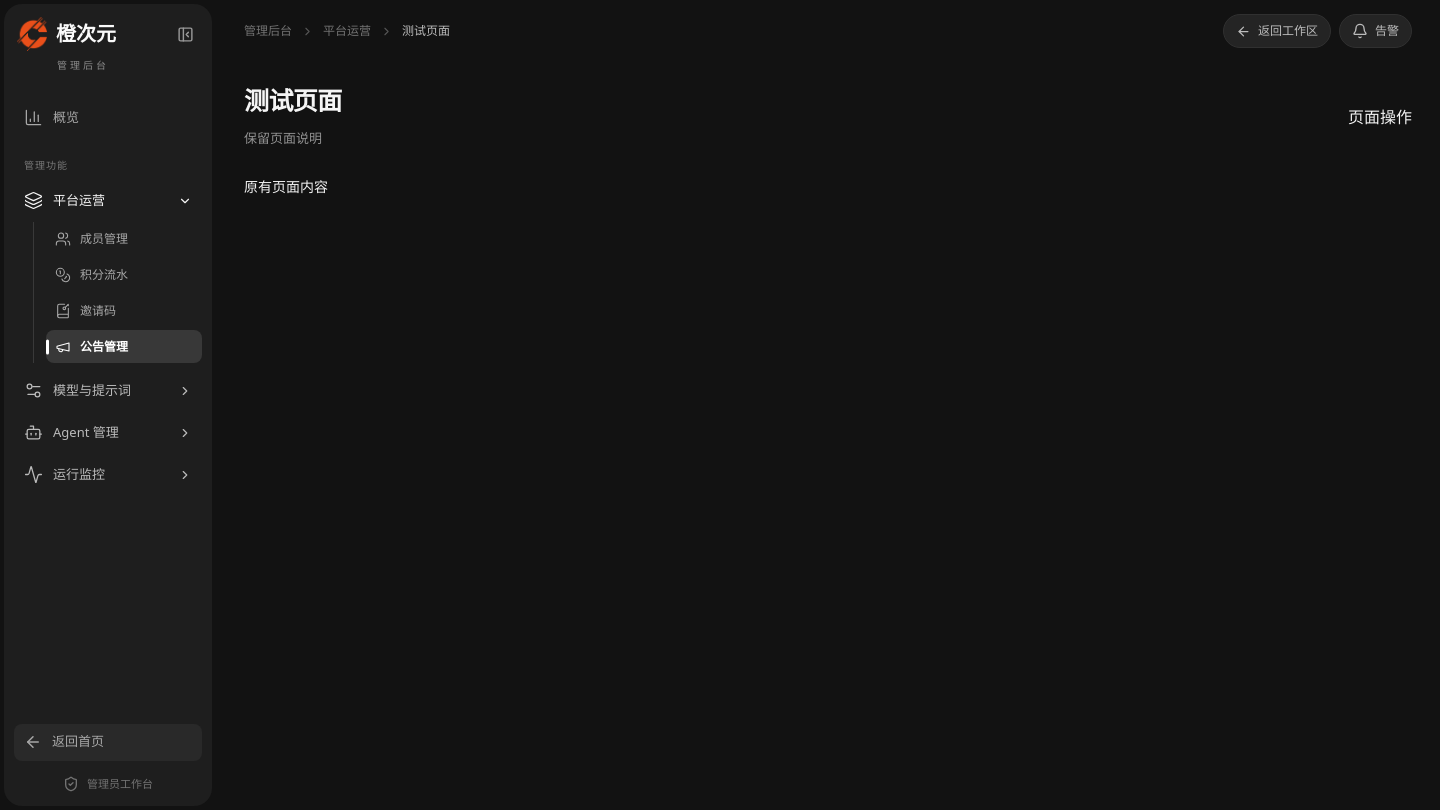
Scenario: 后台分级导航 › 分组可以独立收起和展开，并记住设置
This screenshot has width=1440, height=810.
Click the button "平台运营".
click(108, 200)  # box x1=14 y1=182 x2=202 y2=219
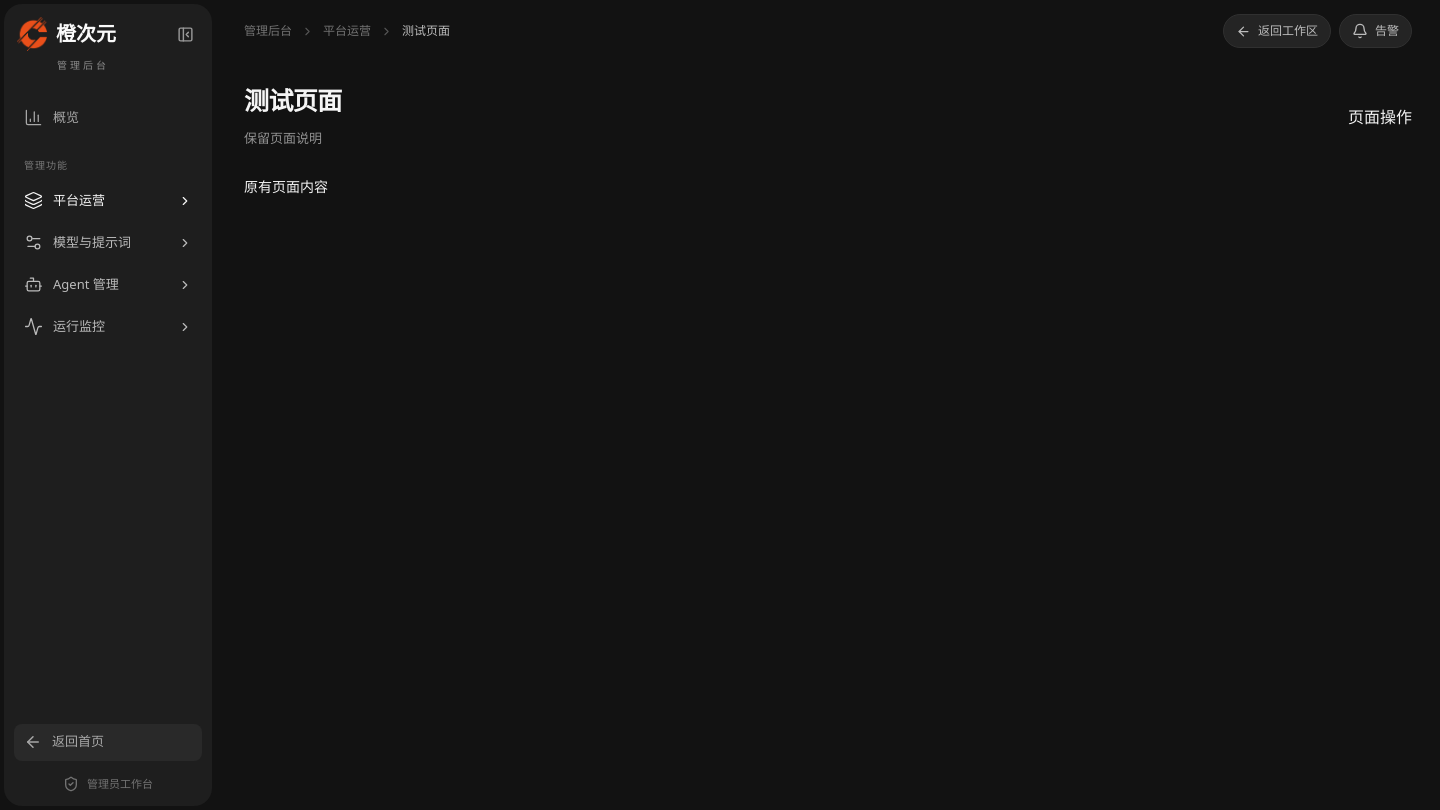
Click the button "Agent 管理".
click(108, 284)  # box x1=14 y1=266 x2=202 y2=303
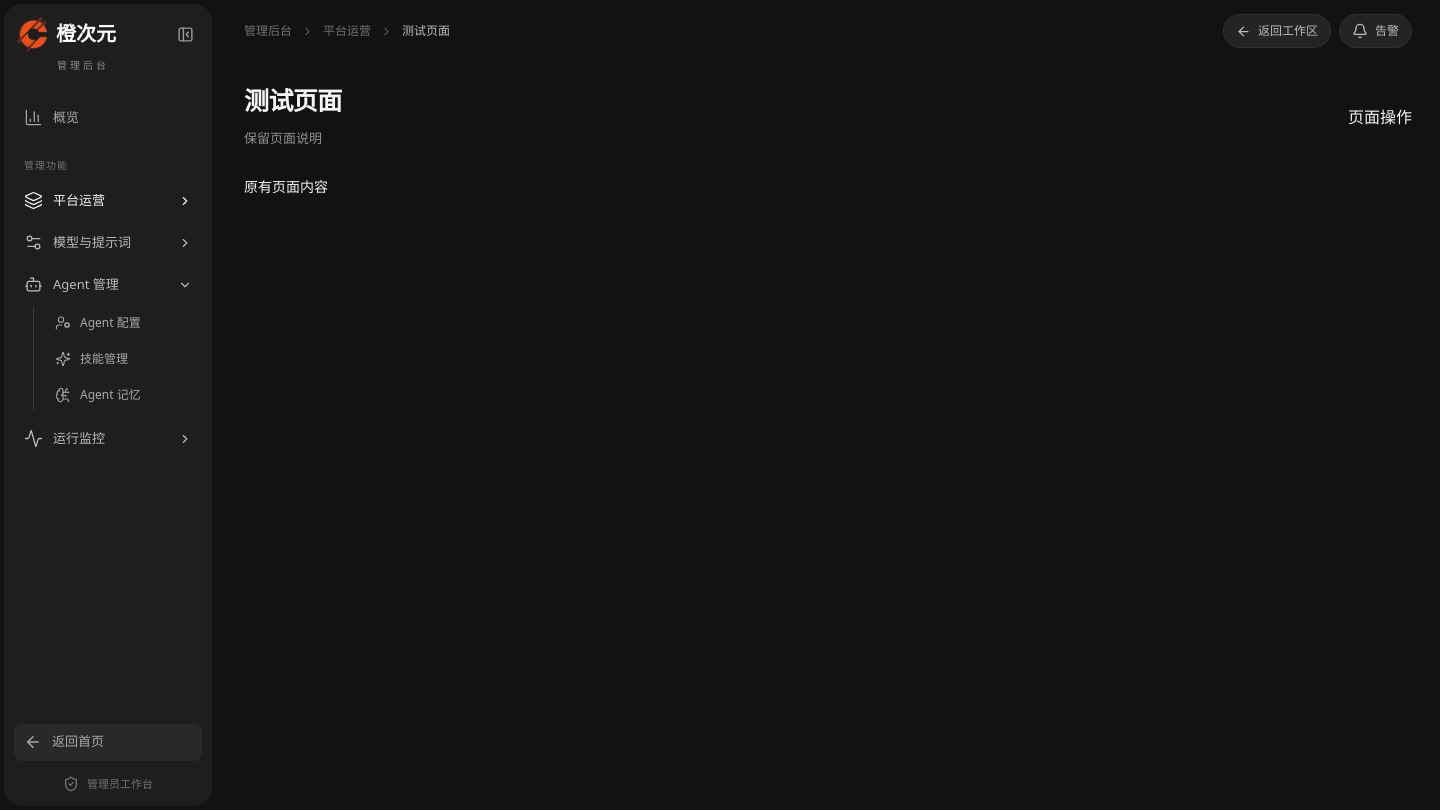
expect the button "平台运营" is collapsed: met, box x1=14 y1=182 x2=202 y2=219
expect the button "Agent 管理" is expanded: met, box x1=14 y1=266 x2=202 y2=303
